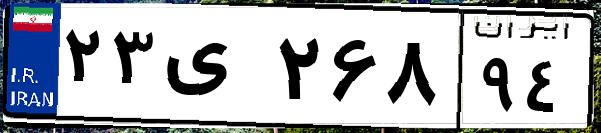2: (270, 28, 330, 110), (57, 26, 110, 100)
3: (110, 28, 158, 98)
4: (525, 38, 570, 115)
6: (330, 28, 385, 110)
8: (385, 28, 445, 110)
9: (475, 38, 525, 113)
ی: (158, 20, 270, 120)
